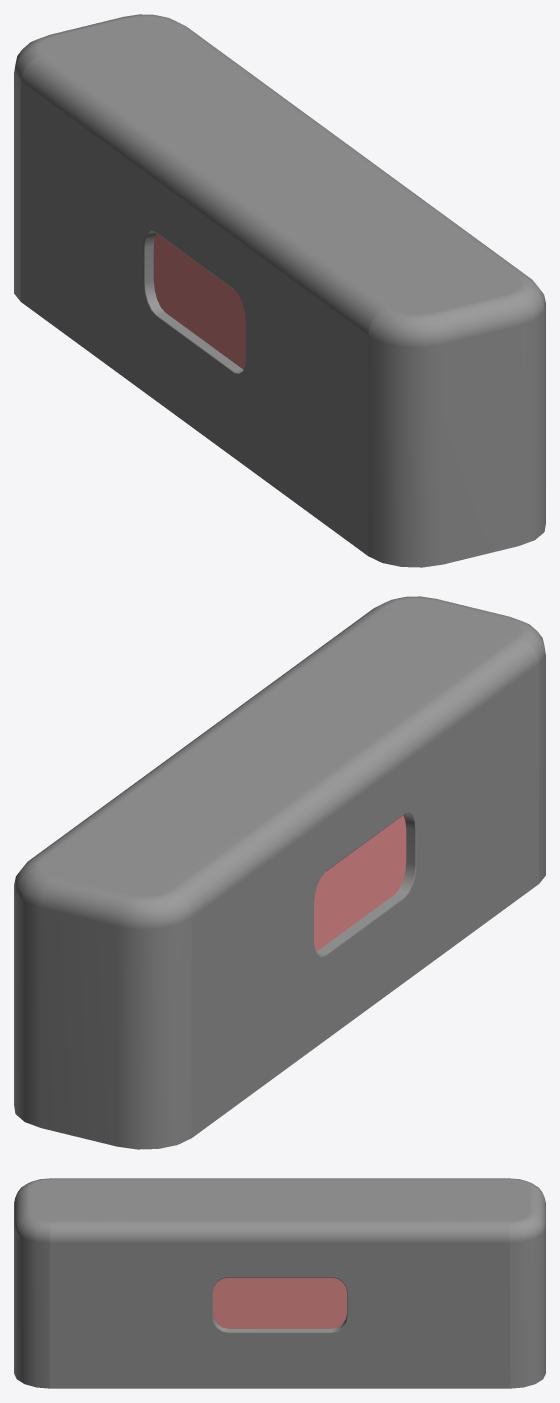
Rendered from LaserActivation_01.gltf.
3 views of the same model, one above another, from view 1: azimuth 30°, elevation 25°; view 2: azimuth 150°, elevation 25°; view 3: azimuth 270°, elevation 25° (orthographic). The views are drawn at different scales.
Visible parts, largest first — view 1: LaserActivation_01; view 2: LaserActivation_01; view 3: LaserActivation_01.
Boxes of the visible parts, x1=… form: LaserActivation_01: x1=14, y1=14, x2=545, y2=567; LaserActivation_01: x1=14, y1=596, x2=545, y2=1149; LaserActivation_01: x1=14, y1=1178, x2=545, y2=1388.
Bounding box in the file's own units: 1.29 × 1.75 × 5.25.
